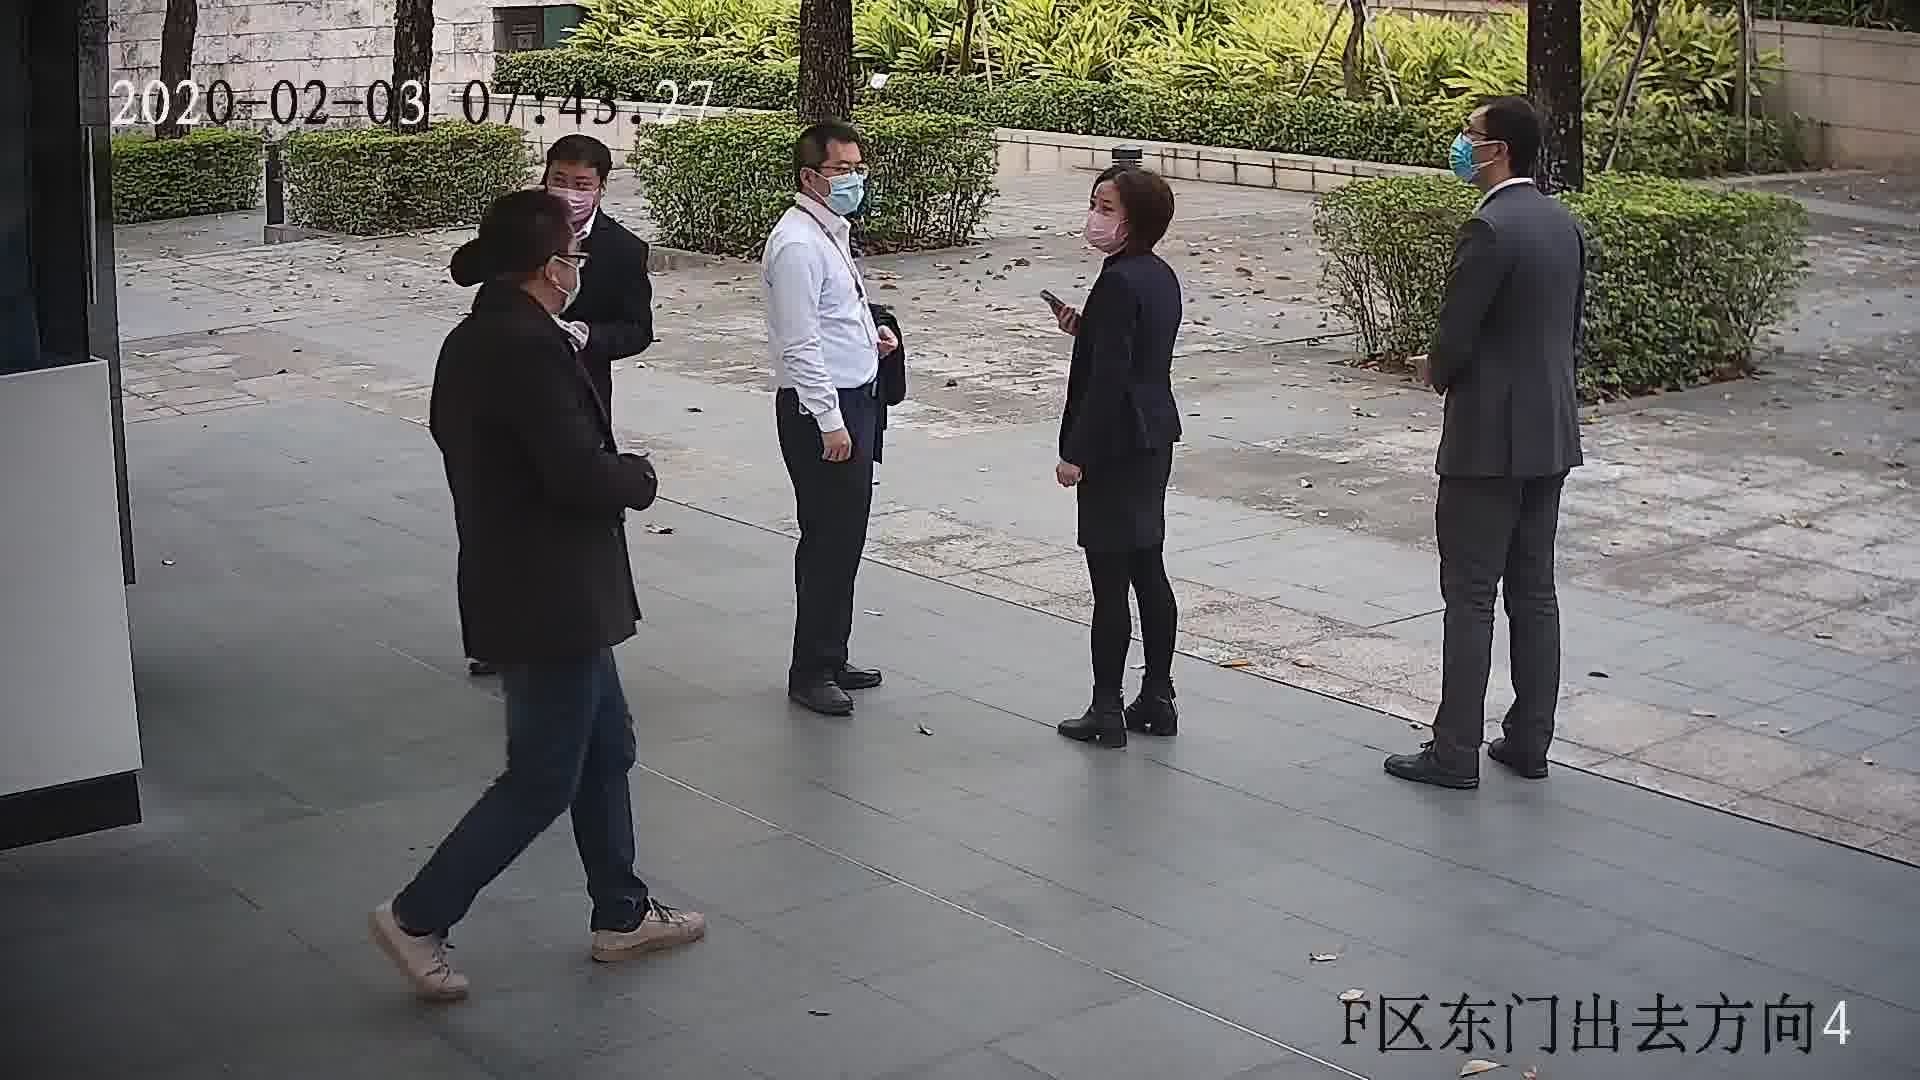face: (509, 220, 596, 307), (536, 160, 610, 234), (815, 138, 870, 215), (1454, 100, 1497, 189), (1080, 176, 1123, 250)
mask: (540, 181, 596, 222), (1080, 207, 1123, 256), (1446, 130, 1482, 185), (821, 174, 866, 215)
person: (436, 195, 602, 395), (1454, 95, 1584, 257), (762, 120, 873, 266), (531, 132, 650, 266), (1083, 165, 1187, 305)
